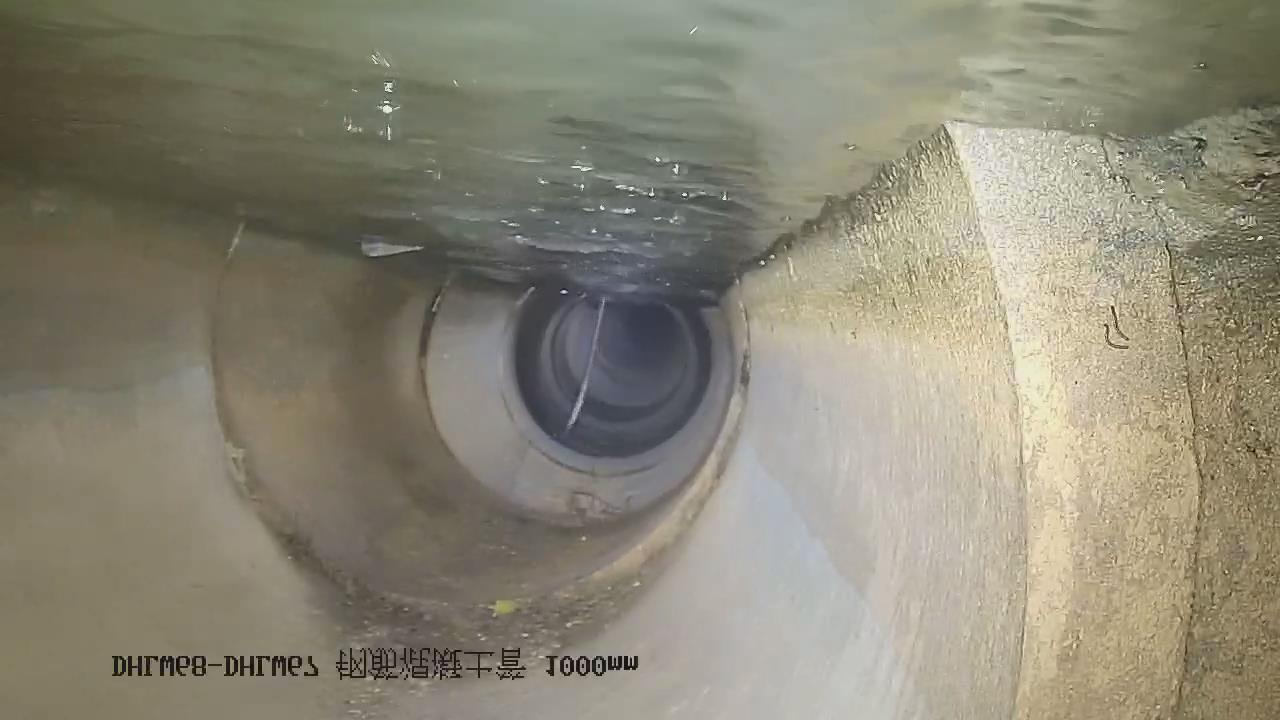SL: (544, 274, 638, 452)
